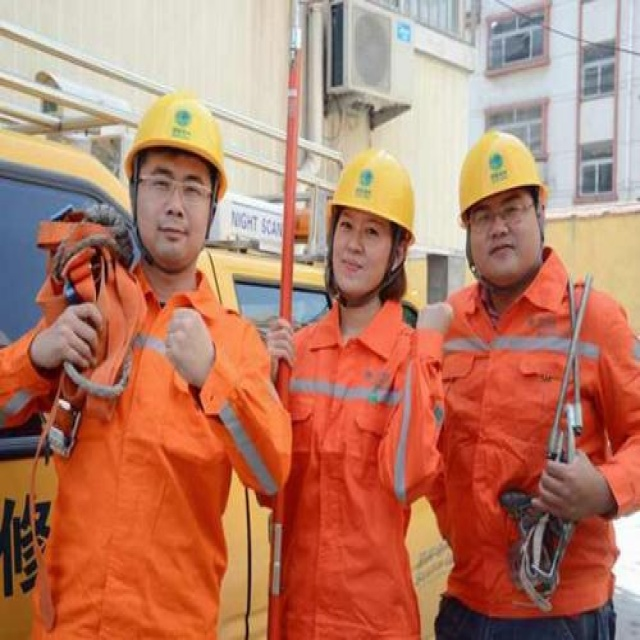Helmet: (109, 60, 244, 308), (440, 110, 570, 314), (312, 124, 431, 335)
Reflective vest: (49, 278, 275, 640), (440, 277, 632, 615), (275, 310, 433, 640)
